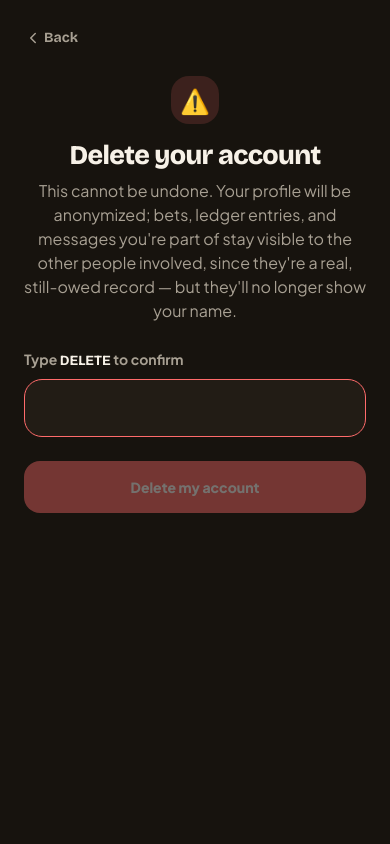
Scenario: DeleteAccountScreen › shows the done state and signs out on confirmation
Later steps or results of the test are not shown.
Type "DELETE" into the field at [195, 408], box x1=24 y1=379 x2=366 y2=437
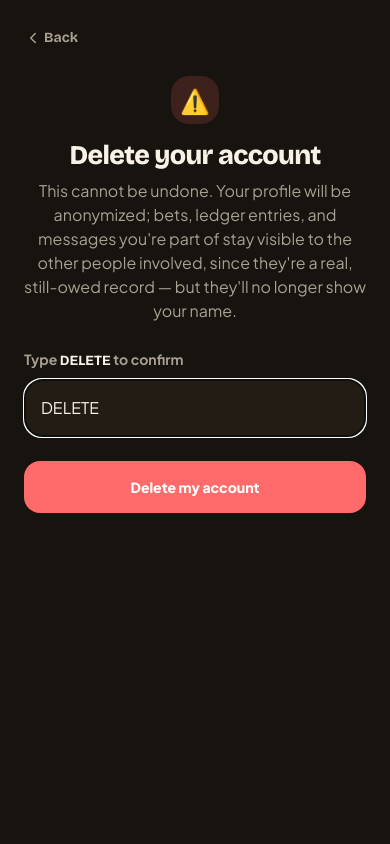
Click the button "Delete my account" at [195, 487], box x1=24 y1=461 x2=366 y2=513
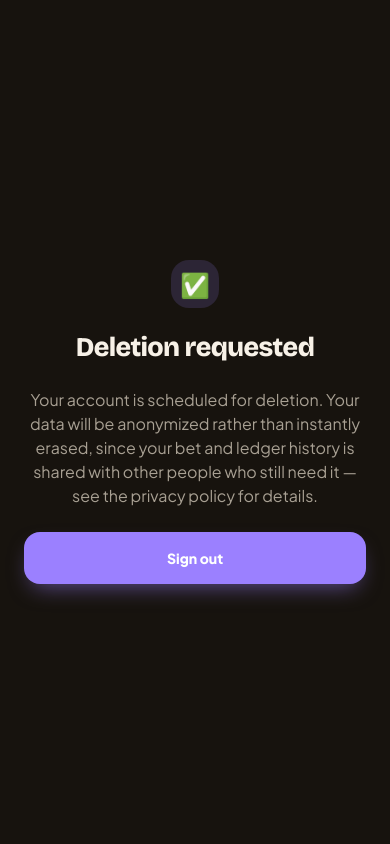
Result: the heading "Deletion requested" is shown at x1=76 y1=332 x2=314 y2=364
